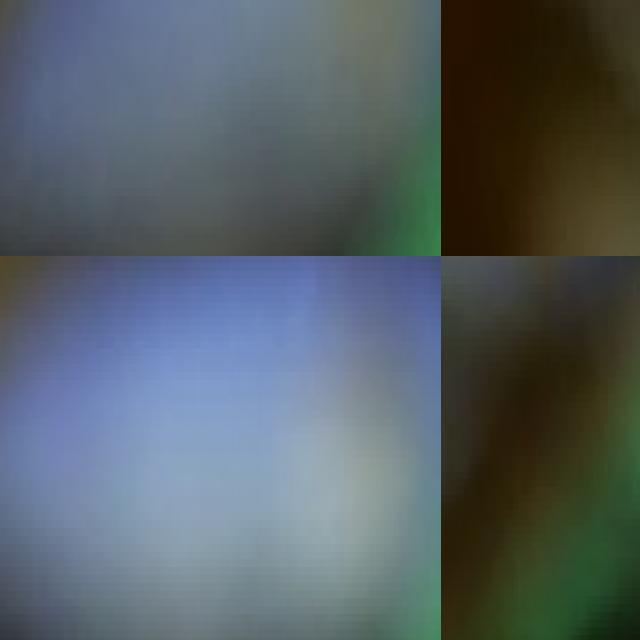fish: (0, 256, 441, 640), (0, 0, 441, 256)
